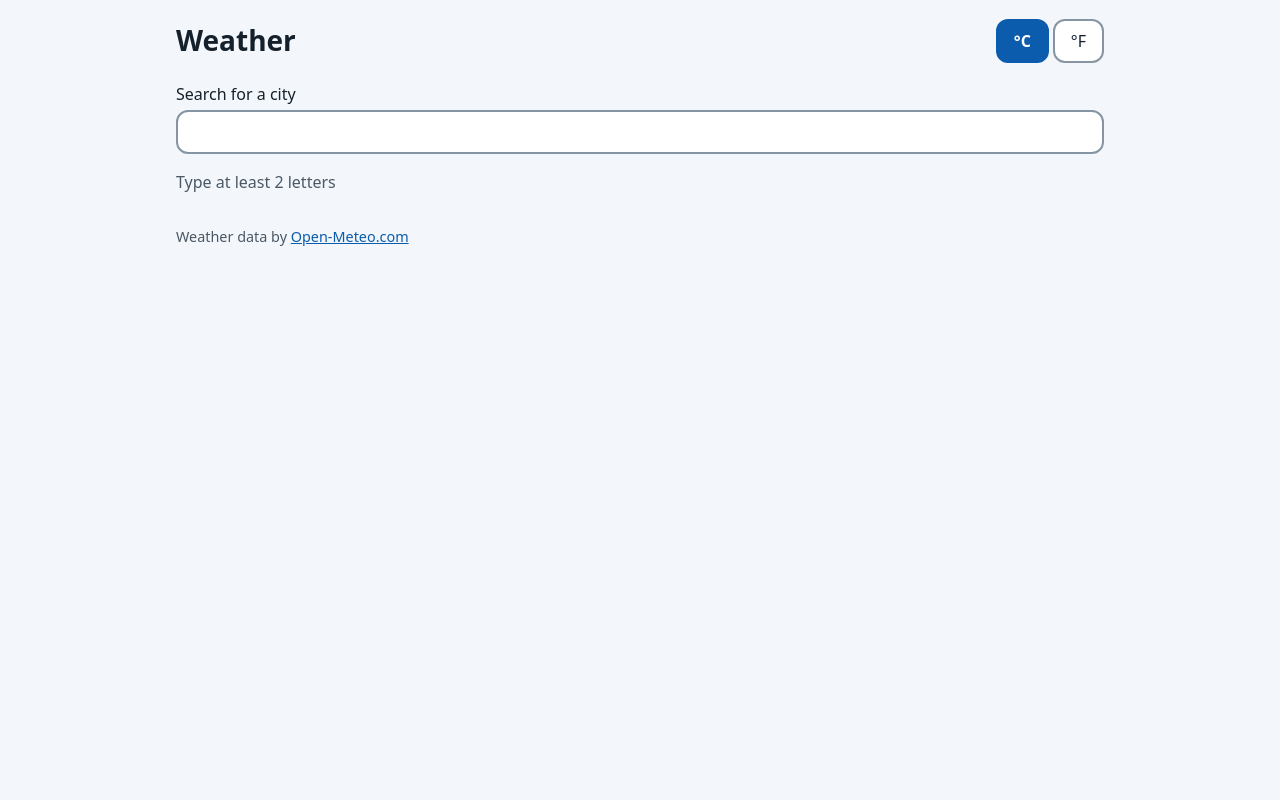
Test case: errors › retries a failed forecast for the same place
Type "Tokyo" into the search field labelled "Search for a city" at (640, 132), box x1=176 y1=110 x2=1104 y2=154
Wait 400 ms
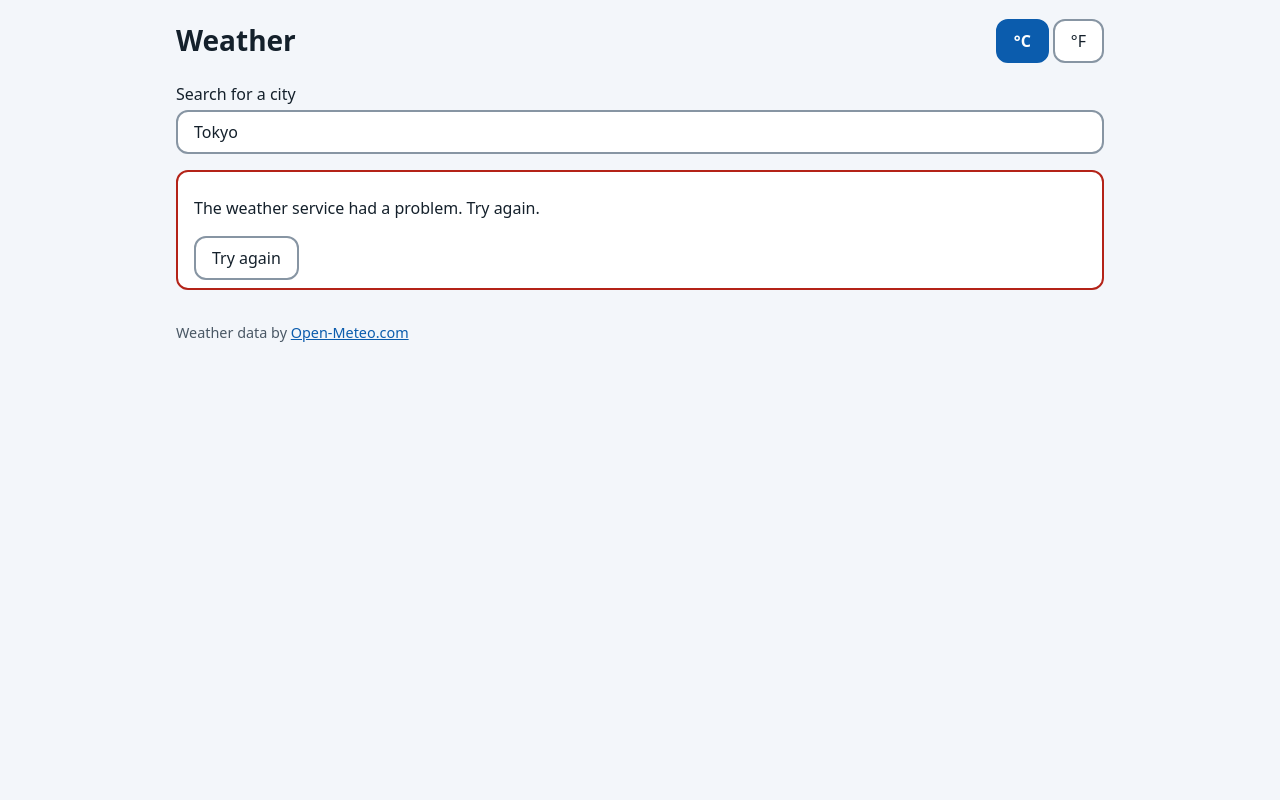
Result: the text "The weather service had a problem. Try again." is shown at x1=194 y1=197 x2=540 y2=219
Click the button "Try again" at (246, 258), box x1=194 y1=236 x2=299 y2=280
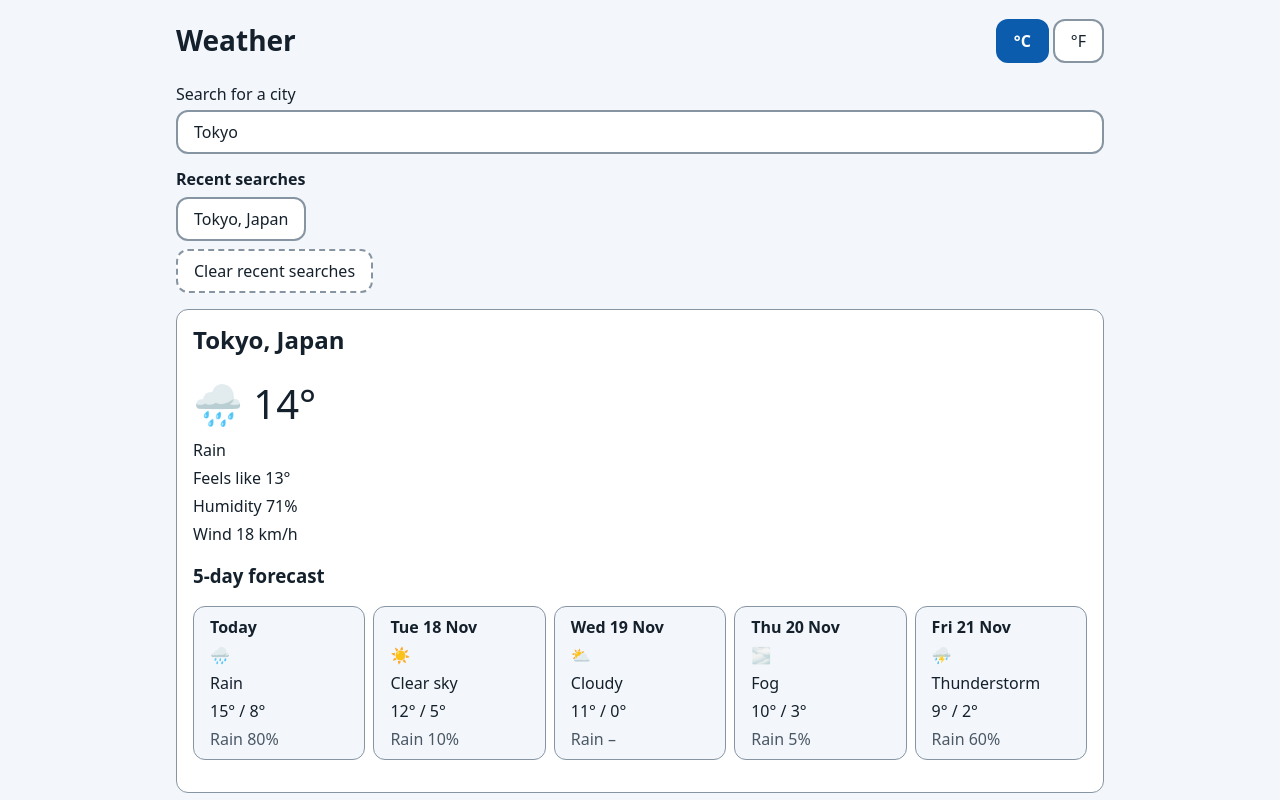
Result: the heading "Tokyo, Japan" is shown at x1=193 y1=323 x2=344 y2=356
